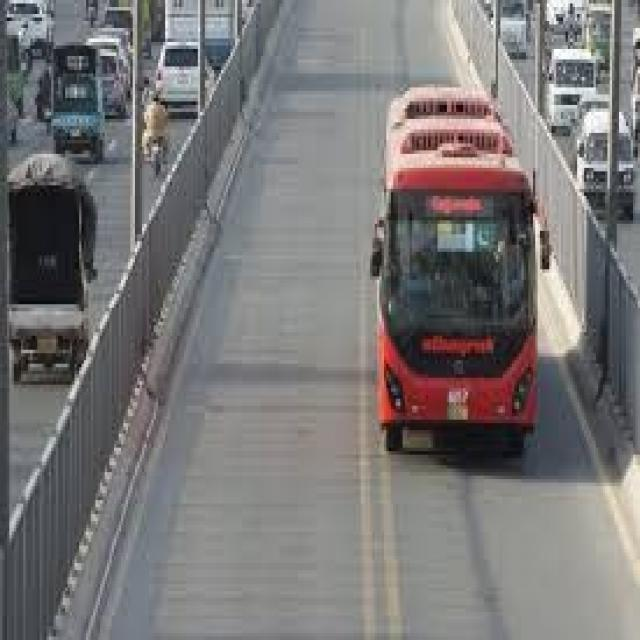bus: (367, 98, 560, 463)
